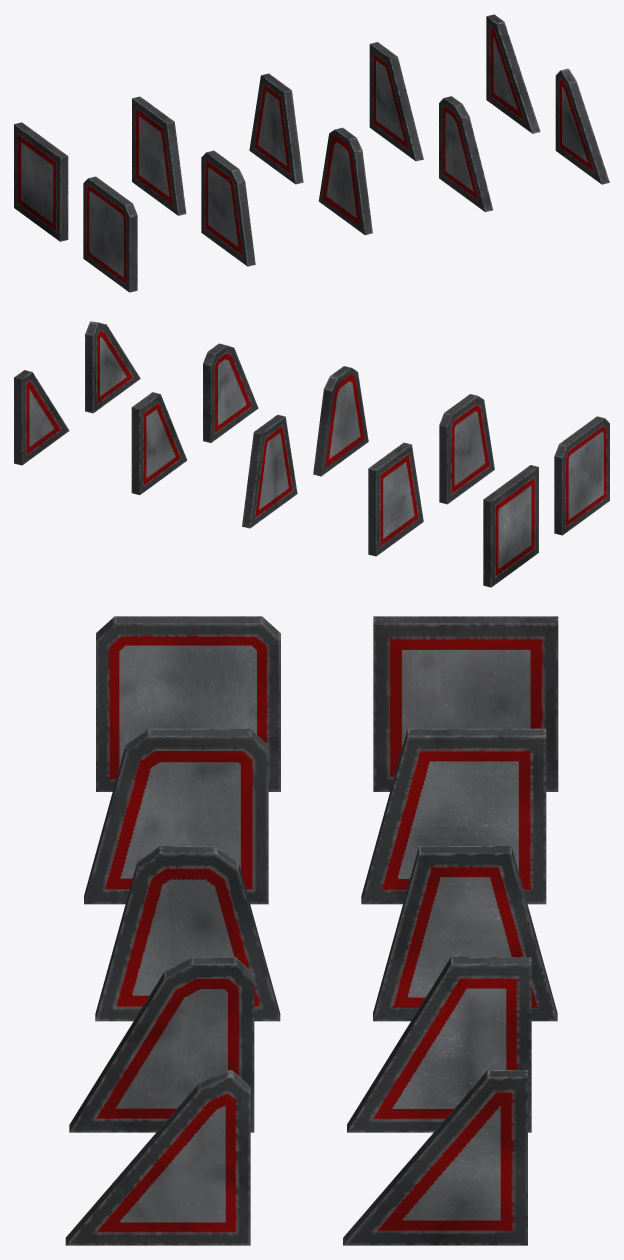
The model's file is Fins.fbx.
The picture shows the model from 3 angles, top to bottom: view 1: azimuth 30°, elevation 25°; view 2: azimuth 150°, elevation 25°; view 3: azimuth 270°, elevation 25°; orthographic projection. The views are drawn at different scales.
Parts seen in each view (by area): view 1: Fin1, Fin1.Bevel, Fin2, Fin2.Bevel, Fin4, Fin3, Fin3.Bevel, Fin4.Bevel, Fin5, Fin5.Bevel; view 2: Fin1, Fin1.Bevel, Fin2, Fin2.Bevel, Fin3, Fin3.Bevel, Fin4, Fin4.Bevel, Fin5, Fin5.Bevel; view 3: Fin1, Fin1.Bevel, Fin2, Fin2.Bevel, Fin5, Fin5.Bevel, Fin4.Bevel, Fin4, Fin3, Fin3.Bevel.
Boxes of the visible parts, left/top/right/bottom form: Fin1: left=14, top=122, right=68, bottom=241; Fin1.Bevel: left=83, top=176, right=137, bottom=292; Fin2: left=132, top=96, right=186, bottom=215; Fin2.Bevel: left=201, top=150, right=255, bottom=266; Fin4: left=369, top=42, right=423, bottom=161; Fin3: left=249, top=73, right=303, bottom=184; Fin3.Bevel: left=318, top=127, right=372, bottom=235; Fin4.Bevel: left=439, top=96, right=492, bottom=212; Fin5: left=486, top=14, right=540, bottom=133; Fin5.Bevel: left=555, top=68, right=609, bottom=184; Fin1: left=483, top=465, right=538, bottom=587; Fin1.Bevel: left=554, top=416, right=609, bottom=535; Fin2: left=368, top=442, right=423, bottom=556; Fin2.Bevel: left=439, top=394, right=494, bottom=504; Fin3: left=242, top=414, right=297, bottom=528; Fin3.Bevel: left=313, top=366, right=368, bottom=476; Fin4: left=131, top=392, right=187, bottom=494; Fin4.Bevel: left=203, top=343, right=258, bottom=442; Fin5: left=14, top=370, right=69, bottom=465; Fin5.Bevel: left=85, top=321, right=140, bottom=413; Fin1: left=373, top=616, right=558, bottom=791; Fin1.Bevel: left=96, top=616, right=280, bottom=791; Fin2: left=361, top=728, right=546, bottom=904; Fin2.Bevel: left=84, top=728, right=268, bottom=904; Fin5: left=343, top=1070, right=527, bottom=1245; Fin5.Bevel: left=65, top=1070, right=250, bottom=1245; Fin4.Bevel: left=69, top=957, right=254, bottom=1132; Fin4: left=347, top=957, right=531, bottom=1132; Fin3: left=373, top=846, right=557, bottom=1021; Fin3.Bevel: left=95, top=846, right=280, bottom=1021.
Size of the model in its own units: 1181 by 200 by 533.
